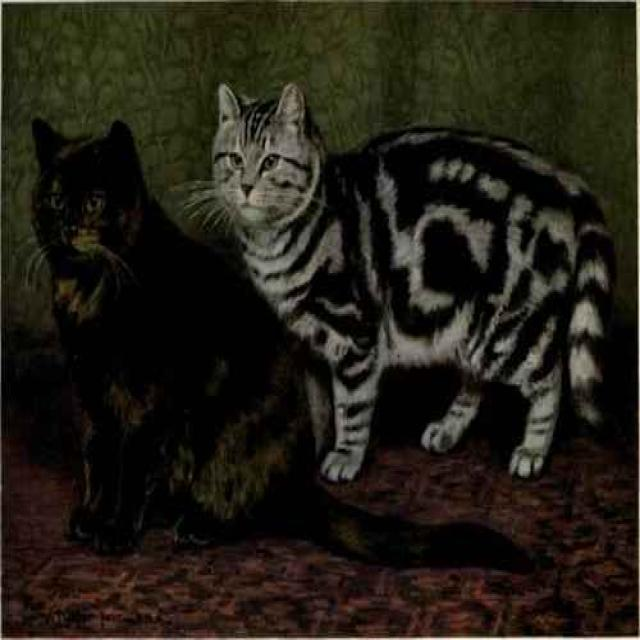Cat: (9, 93, 550, 599), (212, 66, 615, 477)
